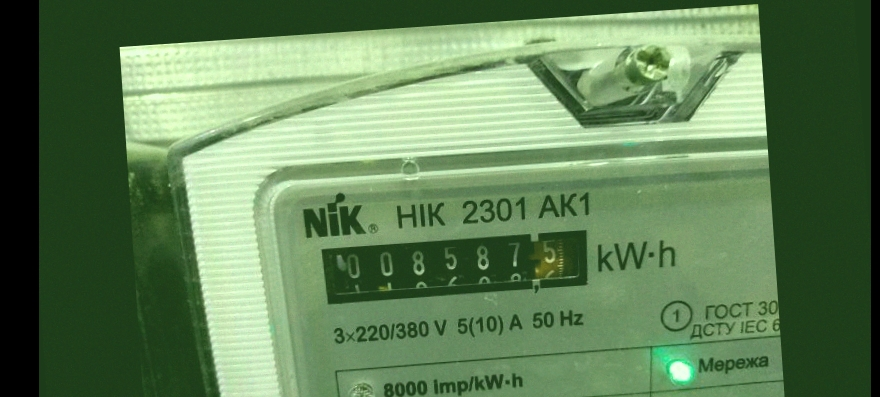0: (344, 249, 363, 279), (378, 248, 397, 277)
5: (442, 242, 461, 272), (542, 236, 561, 266)
7: (506, 237, 525, 268)
8: (474, 240, 493, 271), (410, 247, 428, 276)
screen: (303, 213, 610, 316)
